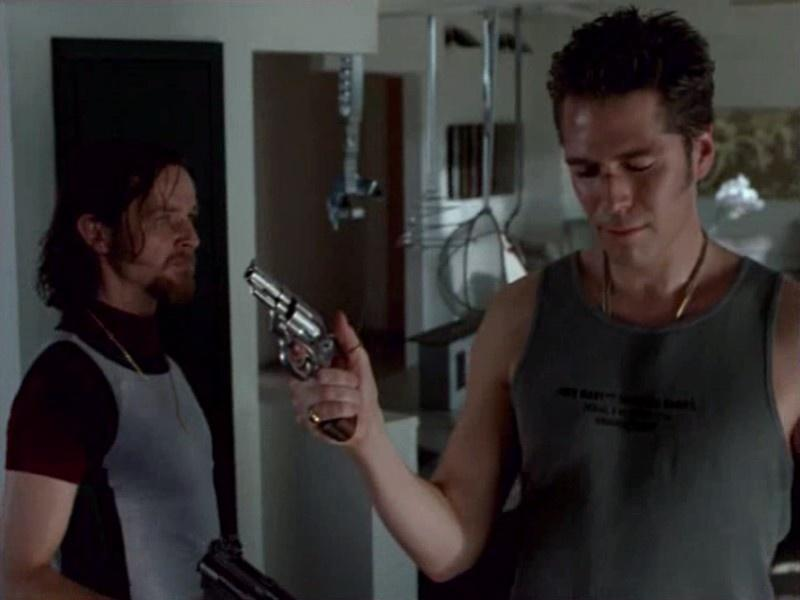gun: (242, 253, 361, 448)
